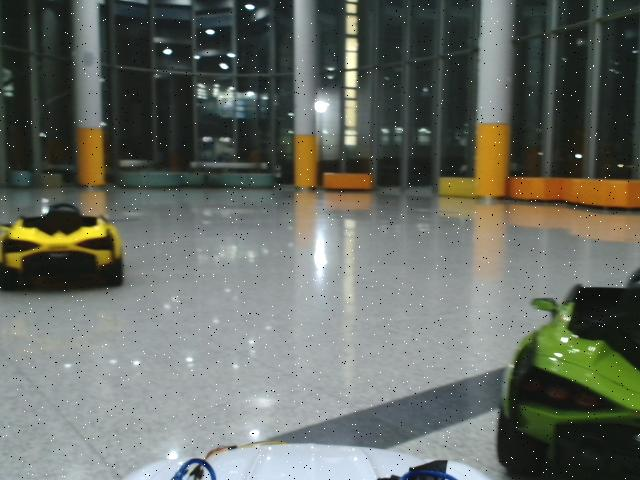car: (498, 265, 640, 480), (1, 204, 124, 291)
